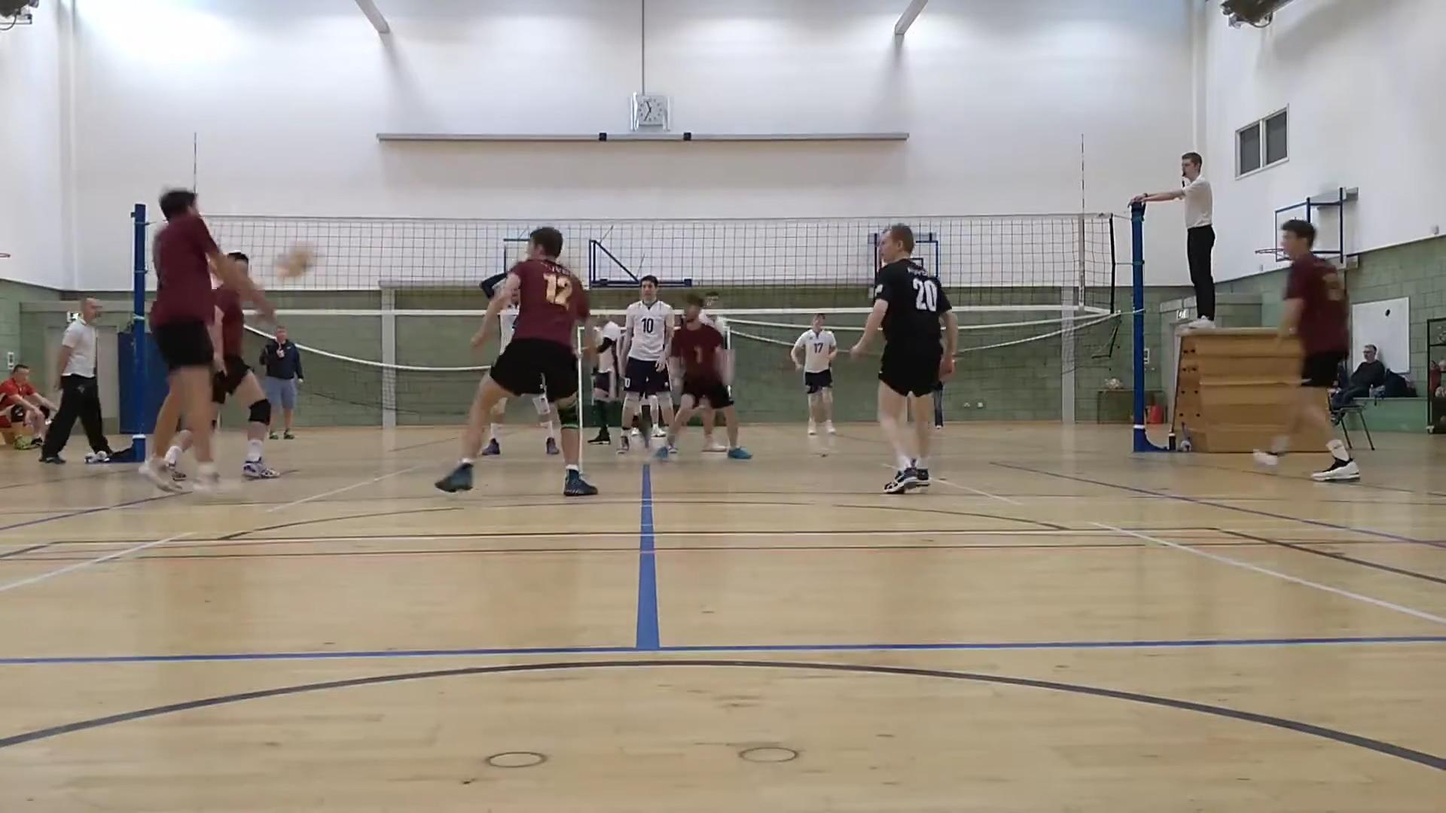ricezione: (127, 181, 279, 504)
